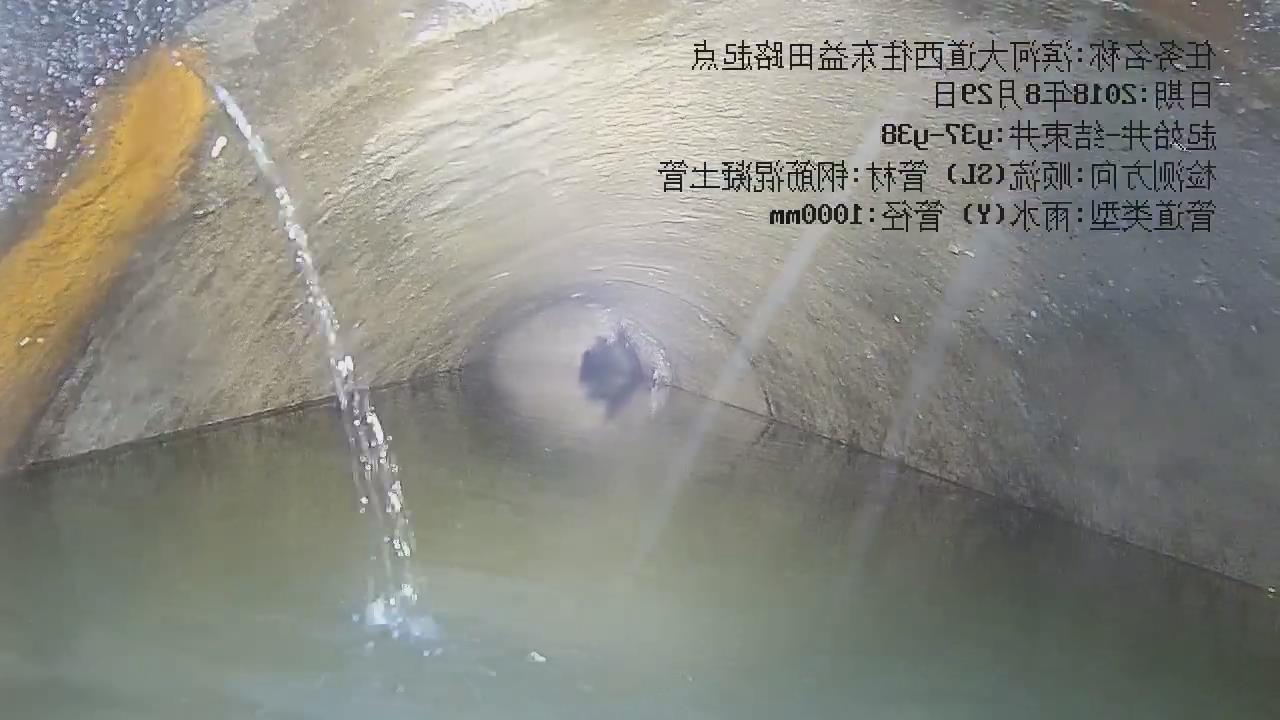SL: (121, 22, 480, 653)
